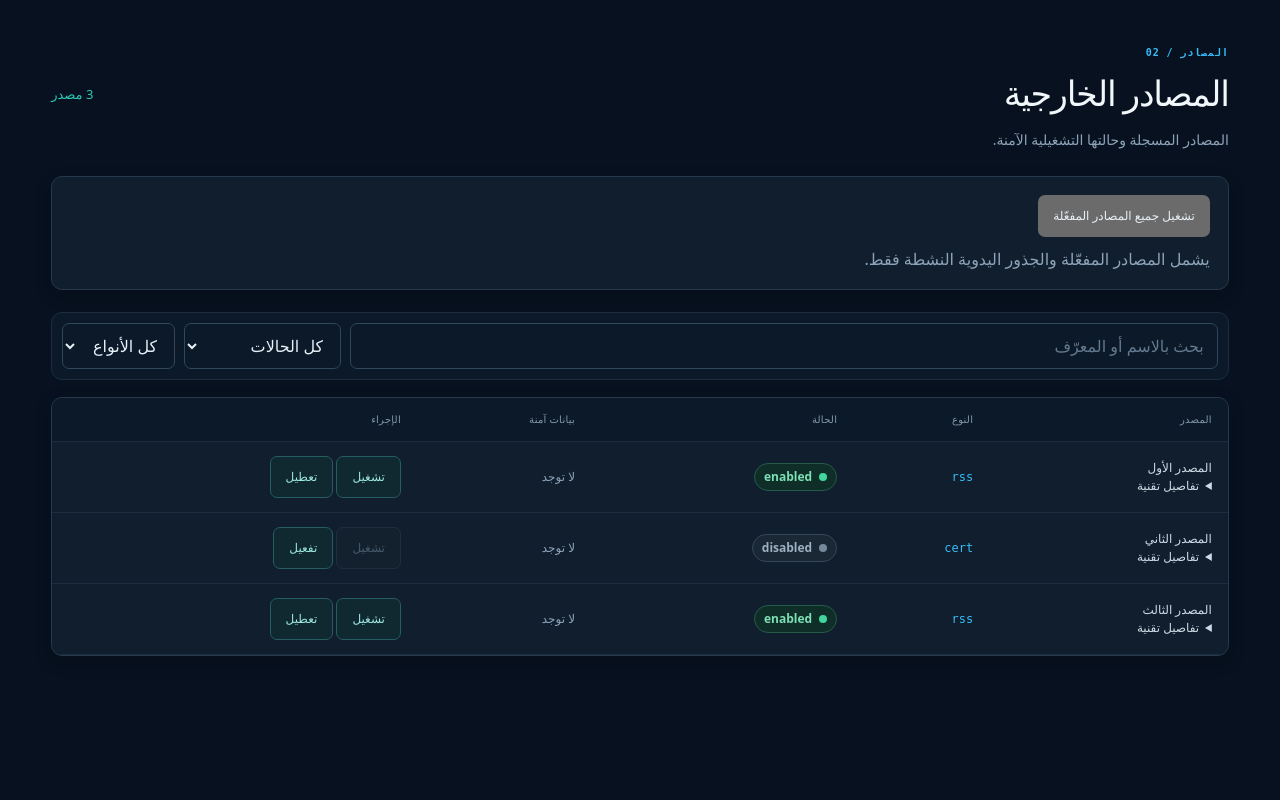
Test case: single external source job › starts only the selected source and prevents duplicate submissions
Click the button "تشغيل" in the row of "المصدر الأول" at (369, 477), box [336,456,401,498]
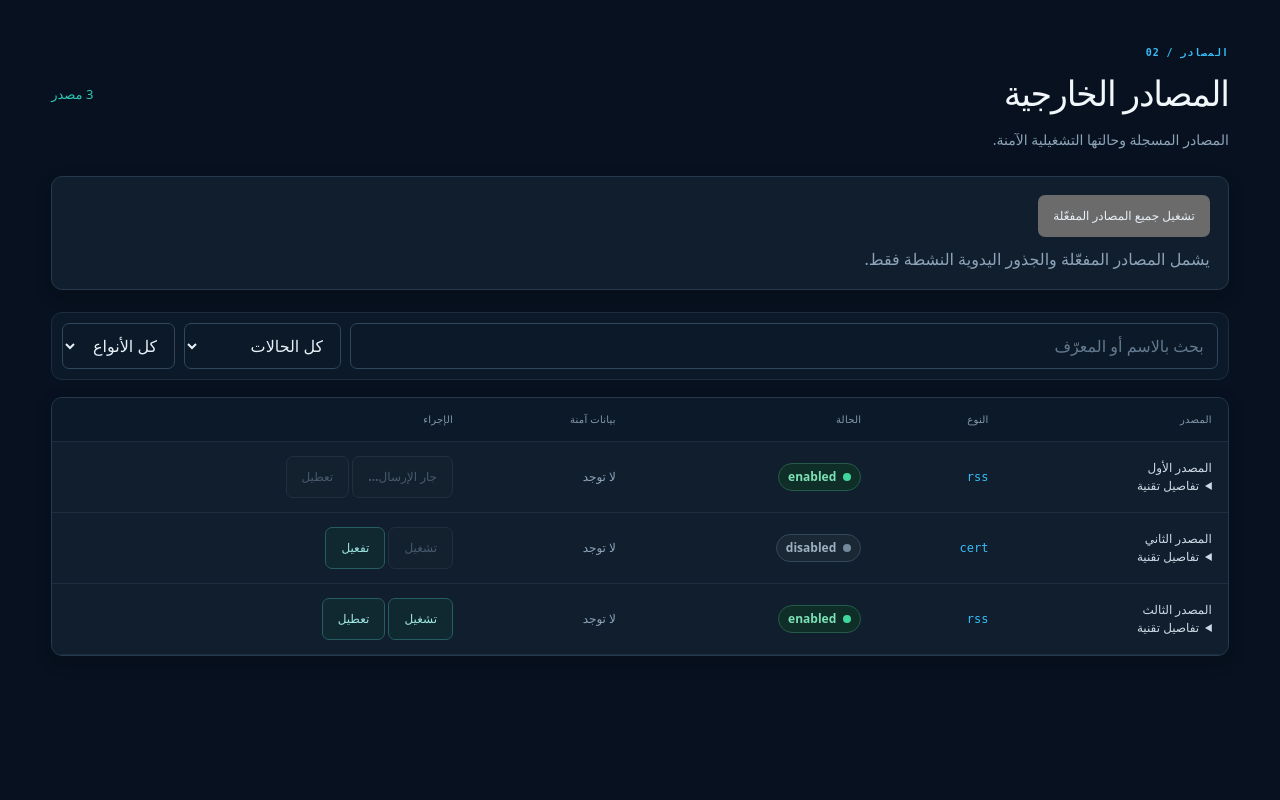
Click the button "جار الإرسال..." at (403, 477), box [352,456,453,498]
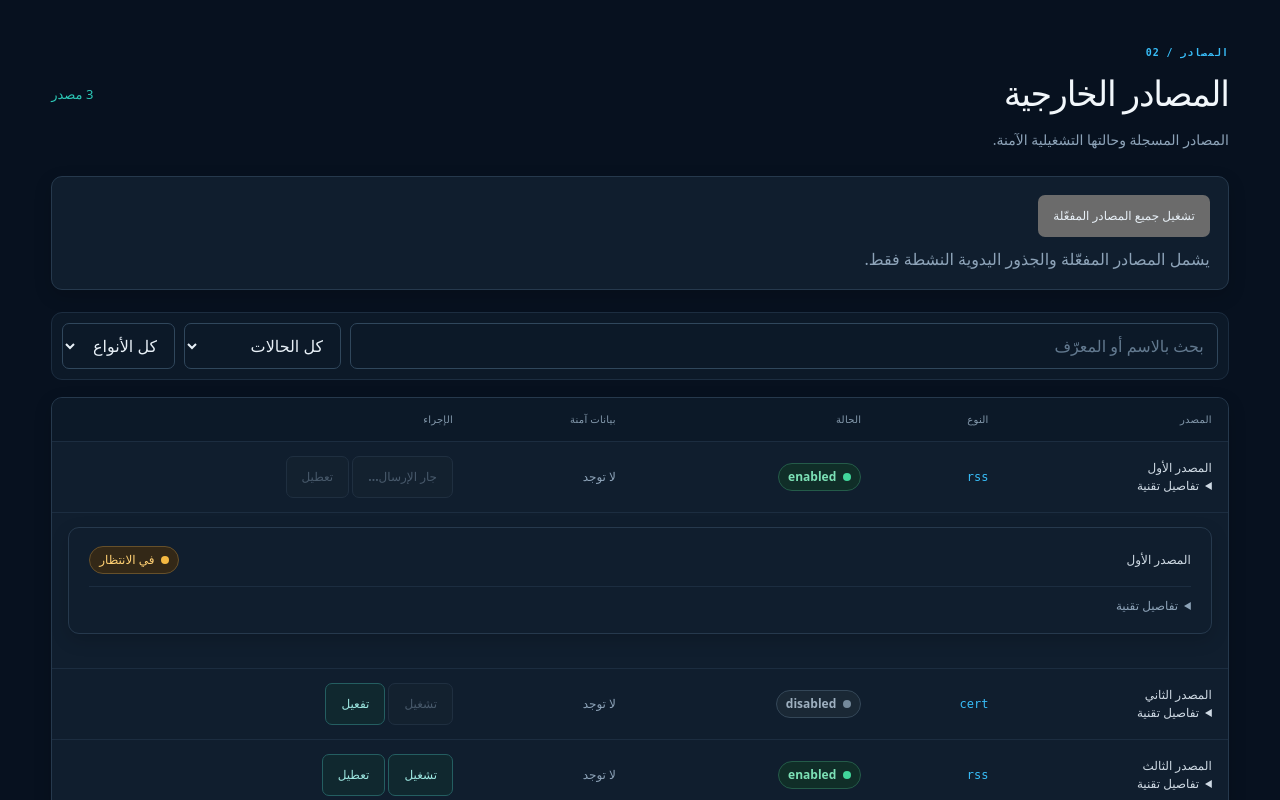
Check: the text "في الانتظار" is shown, box [89,546,180,574]
